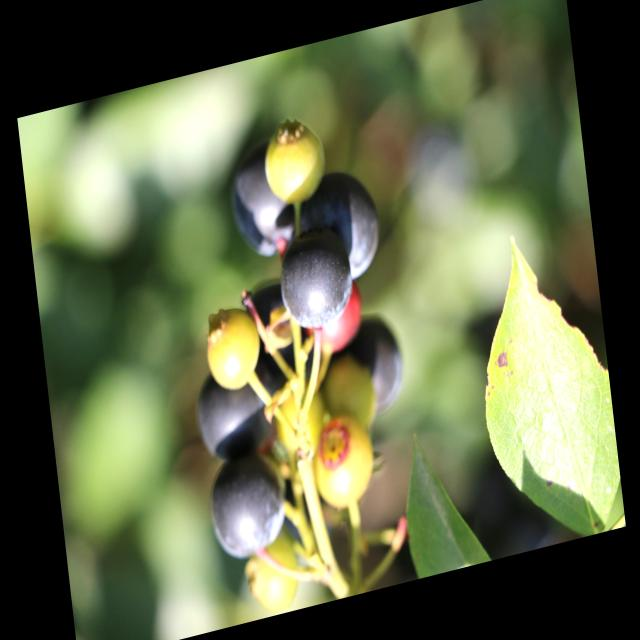blueberry: (291, 156, 388, 296), (199, 439, 295, 572), (188, 352, 286, 479), (218, 137, 310, 272), (269, 218, 361, 344), (327, 304, 412, 436), (233, 265, 309, 390)
blueberry-halfripe: (314, 280, 367, 354)
blueberry-unripe: (308, 411, 380, 516), (258, 113, 330, 213), (202, 305, 266, 398), (244, 527, 304, 610)
